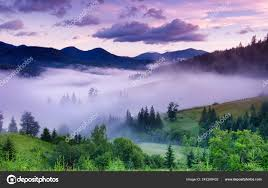field: (13, 116, 265, 174)
mountain: (2, 40, 267, 75)
sky: (2, 2, 263, 46)
